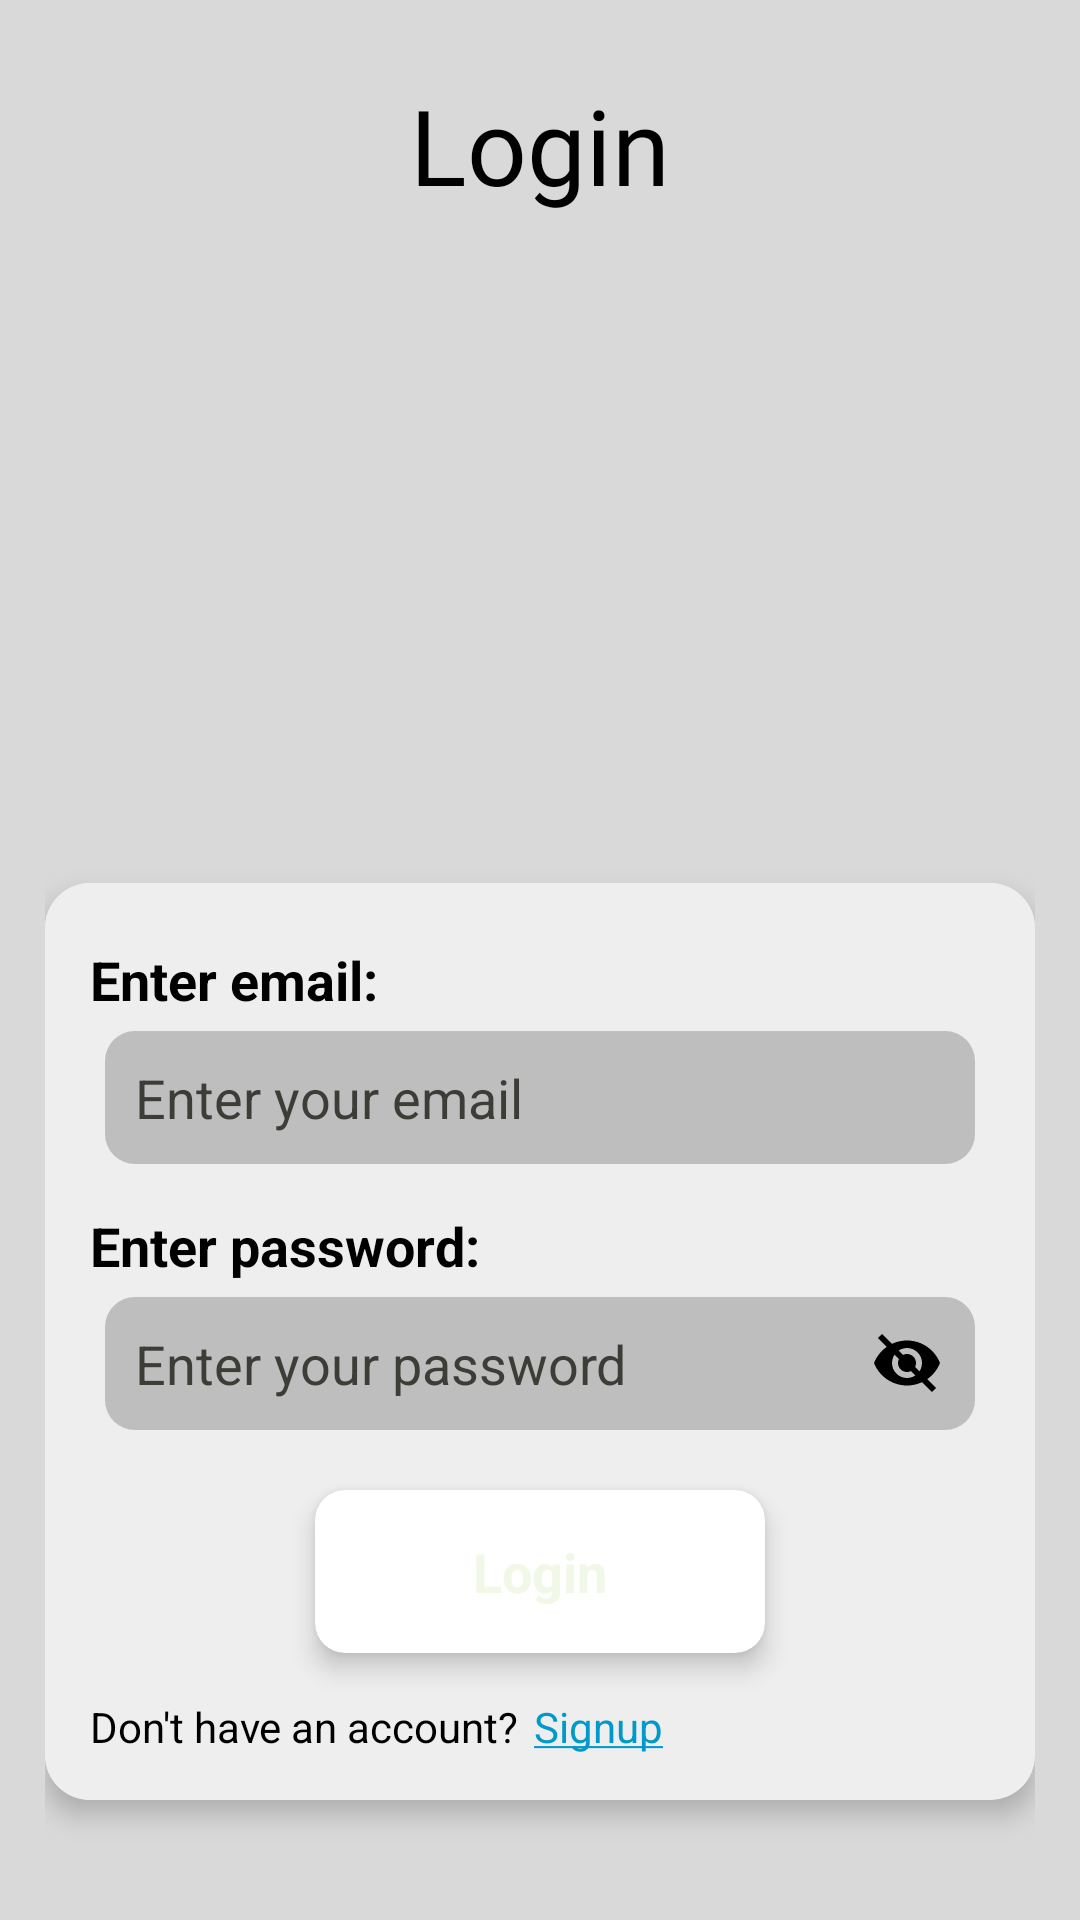

Locate icon controls on the screen. Image size 1080×1920, boxes as (x1, y1, x2, y2).
Password toggle icon: (874, 1334, 940, 1392)
